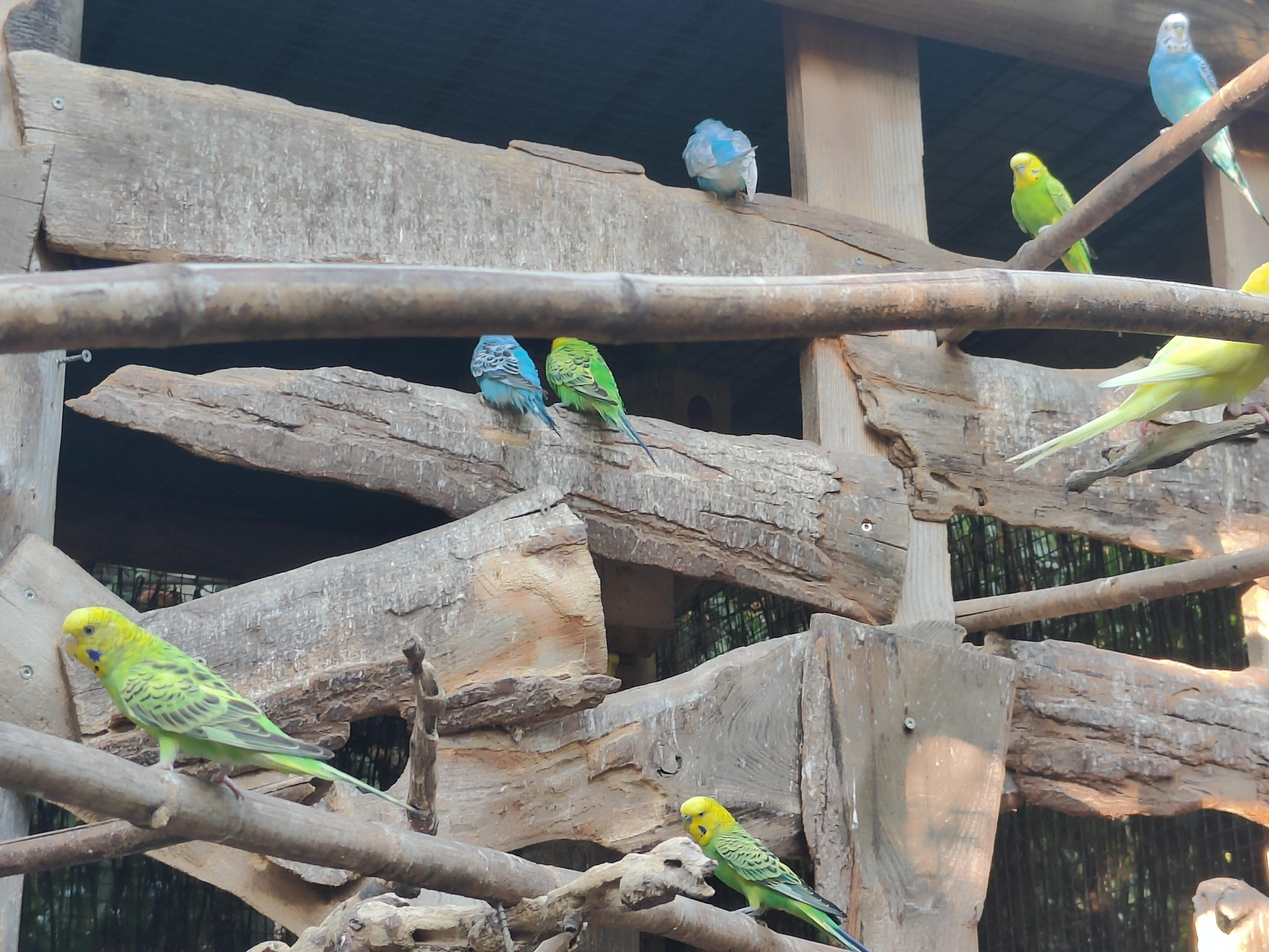apple: (62, 606, 418, 814), (1005, 262, 1269, 473), (679, 796, 867, 952), (1149, 12, 1269, 225), (546, 337, 657, 466), (1010, 152, 1098, 274), (470, 334, 562, 439), (682, 118, 759, 202)
